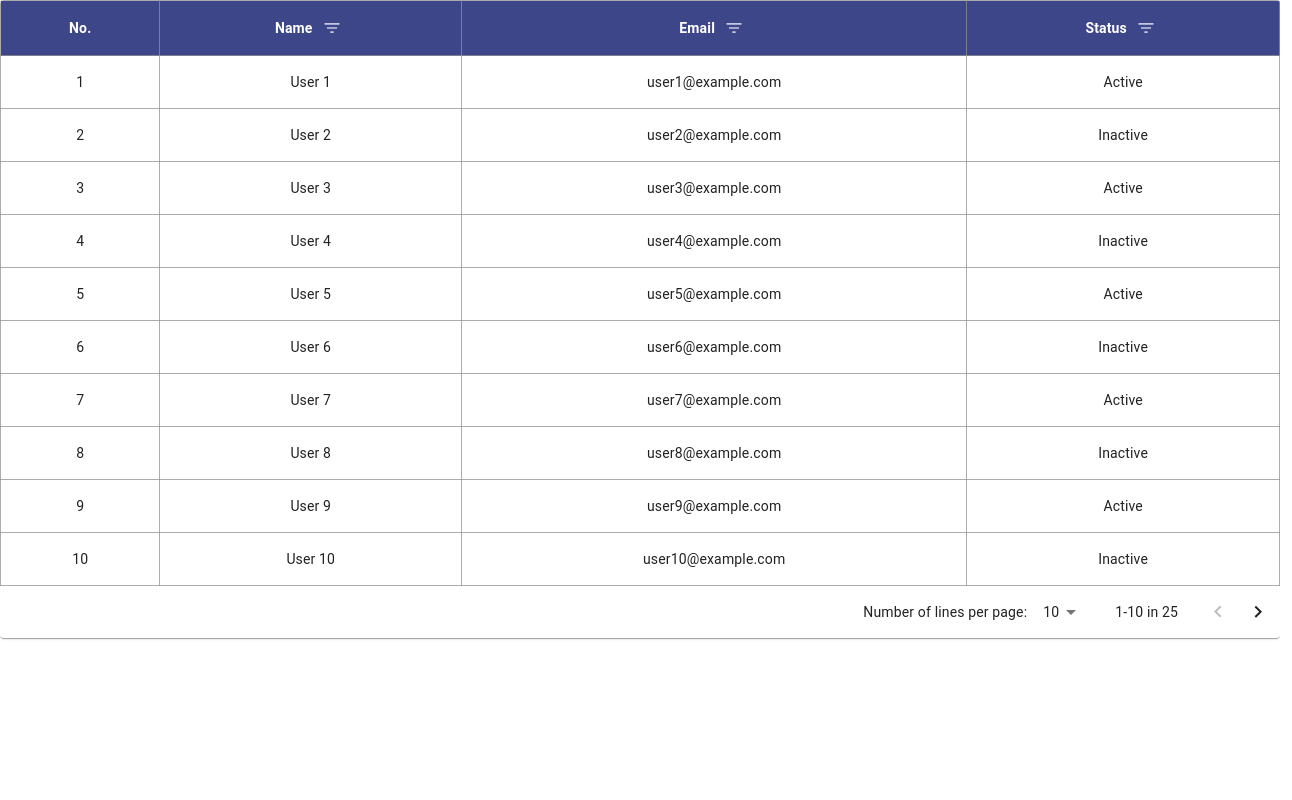
Test: DataTable Component - Comprehensive Tests › Pagination › updates STT numbers based on current page
The image size is (1292, 800).
Click the button named "next page" at (1258, 612), box [1238,592,1278,632]
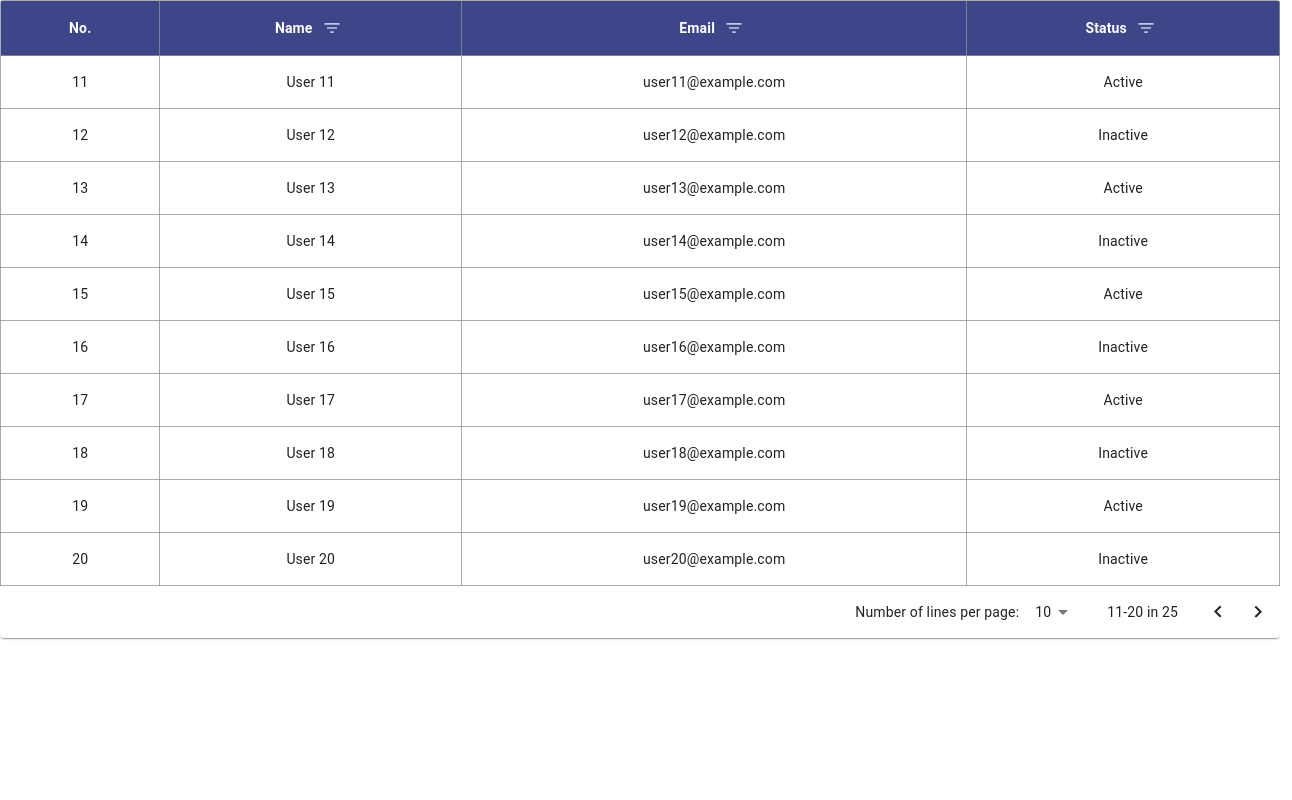
Expected: the text "11" is shown, [0,56,160,108]
Expected: the text "12" is shown, [0,108,160,162]
